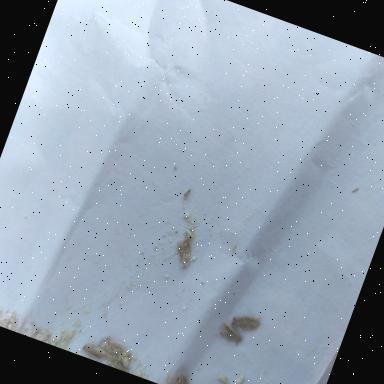pbw: (95, 333, 130, 365), (229, 307, 262, 334), (170, 234, 196, 268), (80, 340, 110, 364), (218, 320, 246, 344)
